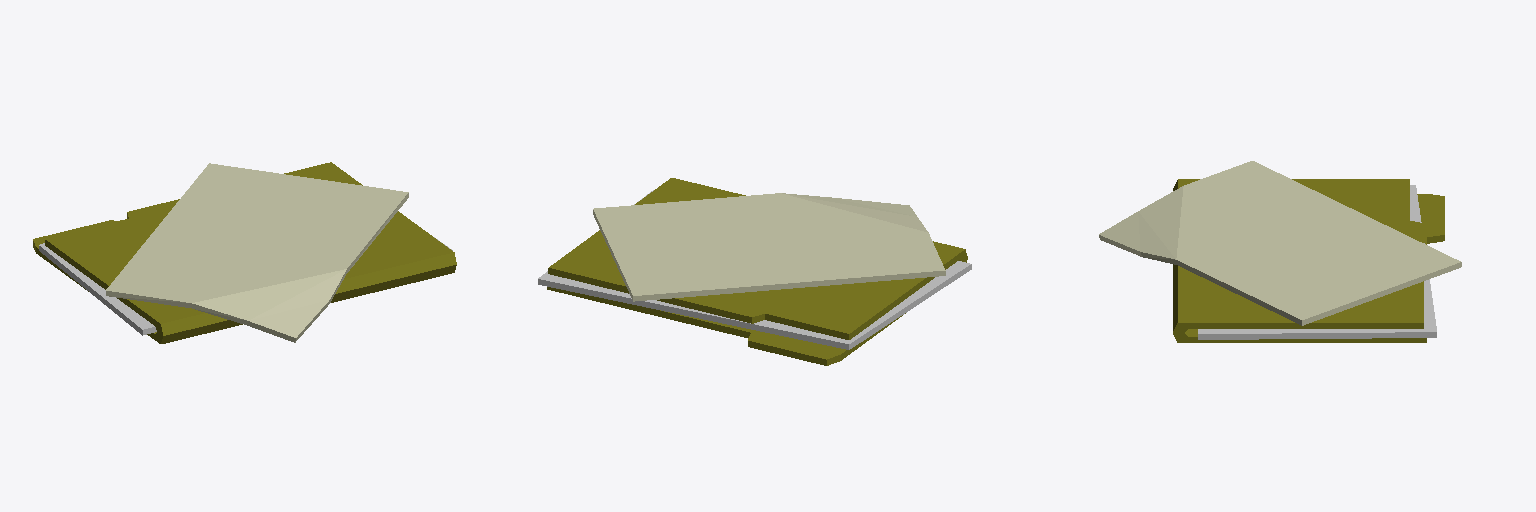
The model's file is Folder_files.obj.
The picture shows the model from 3 angles: view 1: azimuth 30°, elevation 25°; view 2: azimuth 150°, elevation 25°; view 3: azimuth 270°, elevation 25°; orthographic projection.
Parts seen in each view (by area): view 1: Folder_files; view 2: Folder_files; view 3: Folder_files.
Boxes of the visible parts, x1=… form: Folder_files: x1=33, y1=162, x2=456, y2=343; Folder_files: x1=538, y1=178, x2=971, y2=365; Folder_files: x1=1099, y1=161, x2=1461, y2=342.
Bounding box in the file's own units: 0.4268 × 0.0386 × 0.4093.